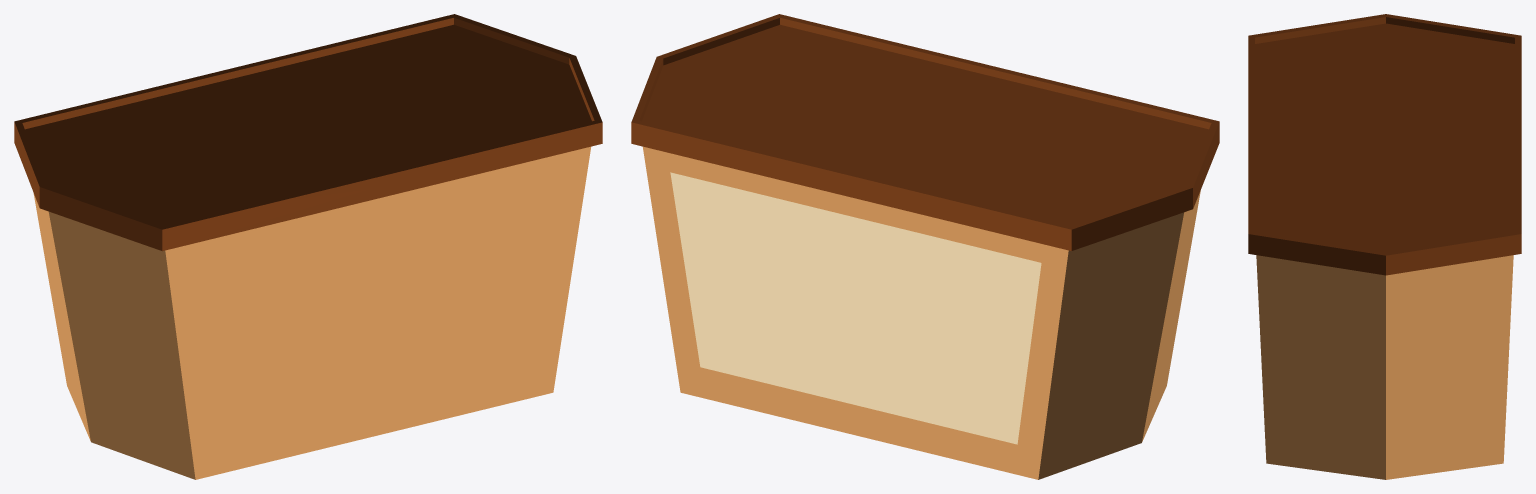
The model's file is Cookie Box 2.fbx.
The picture shows the model from 3 angles, left to right: view 1: azimuth 30°, elevation 25°; view 2: azimuth 150°, elevation 25°; view 3: azimuth 270°, elevation 25°; orthographic projection. The views are drawn at different scales.
Visible parts, largest first — view 1: Node 0; view 2: Node 0; view 3: Node 0.
Boxes of the visible parts, <box> form: Node 0: <box>14,14,602,479</box>; Node 0: <box>631,14,1219,479</box>; Node 0: <box>1248,14,1521,479</box>.
Bounding box in the file's own units: 0.1006 × 0.1005 × 0.2106.
